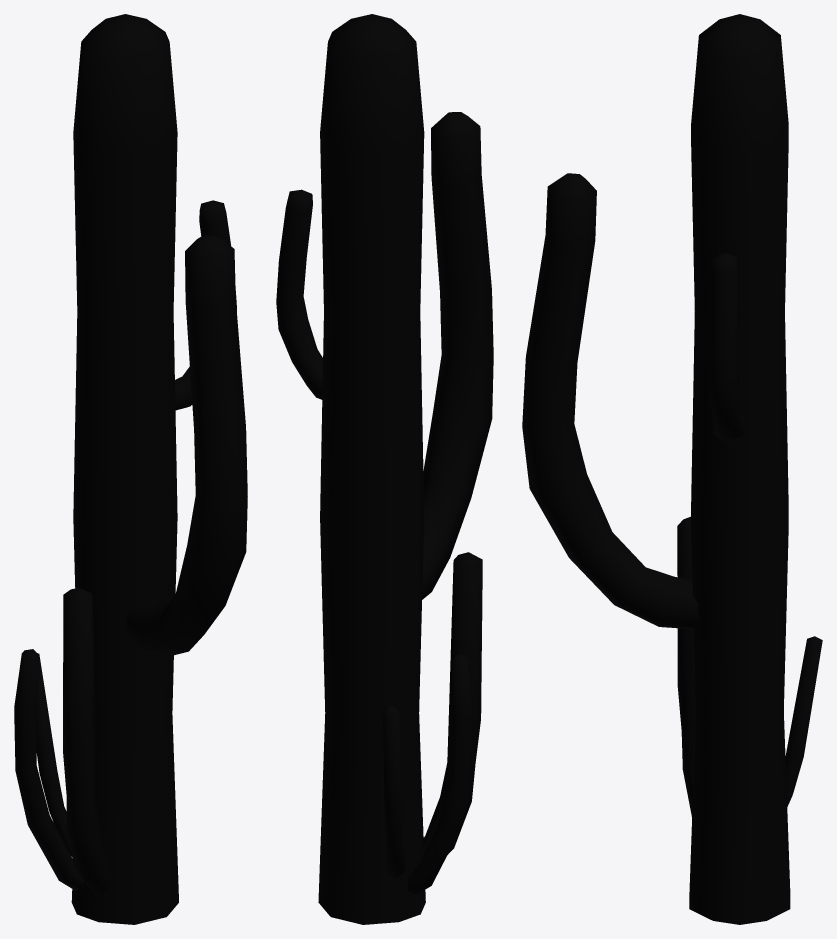
The model's file is cactus_1.glb.
3 renders of one model, left to right at view 1: azimuth 30°, elevation 25°; view 2: azimuth 150°, elevation 25°; view 3: azimuth 270°, elevation 25°, orthographic.
Visible parts, largest first — view 1: Cactus_1; view 2: Cactus_1; view 3: Cactus_1.
Boxes of the visible parts, left/top/right/bottom form: Cactus_1: left=14, top=14, right=247, bottom=924; Cactus_1: left=276, top=14, right=493, bottom=924; Cactus_1: left=522, top=14, right=822, bottom=924.
Size of the model in its own units: 0.5094 by 2.06 by 0.6356.
1 material, 1 textured.
